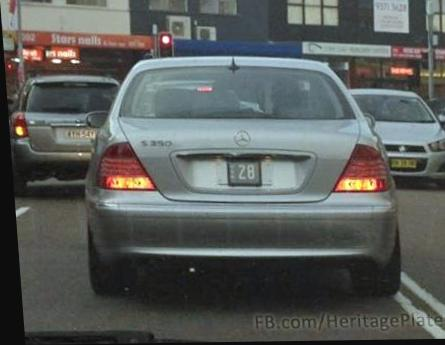License_Plate: (217, 154, 271, 193)
